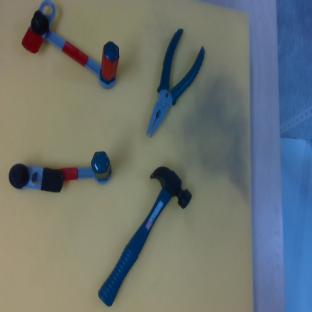non_pass: (7, 151, 113, 199)
